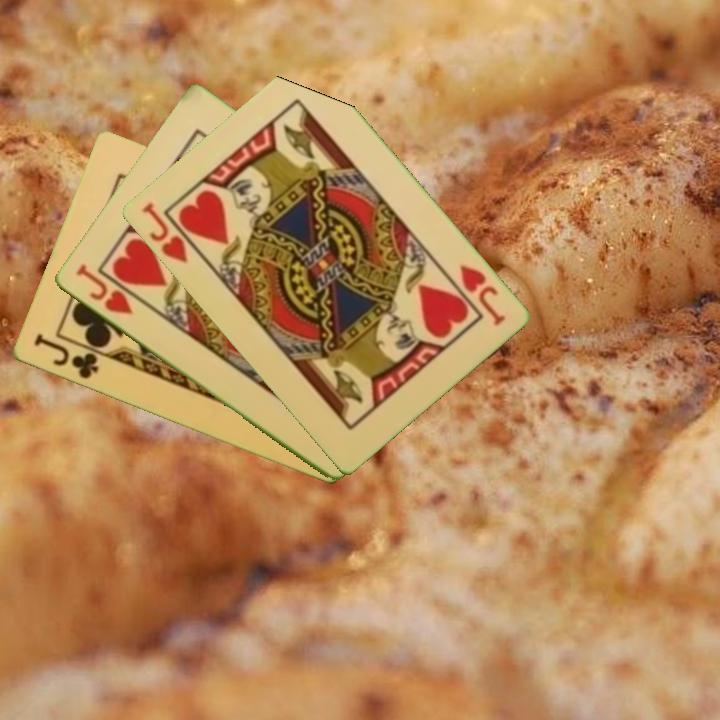Jc: (30, 330, 101, 383)
Jh: (71, 260, 135, 318), (455, 261, 508, 329), (137, 199, 190, 266)
